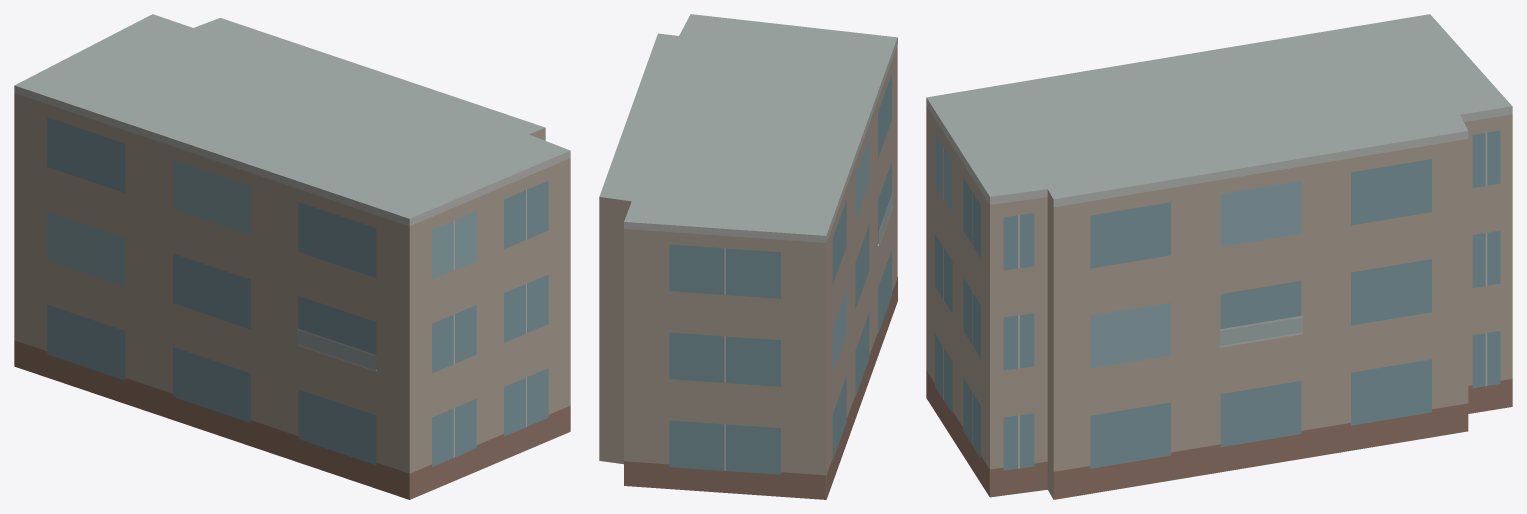
The model's file is survey-upis-32697260.glb.
The picture shows the model from 3 angles, left to right: view 1: azimuth 30°, elevation 25°; view 2: azimuth 150°, elevation 25°; view 3: azimuth 270°, elevation 25°; orthographic projection. The views are drawn at different scales.
Parts seen in each view (by area): view 1: survey-upis-32697260.tmp; view 2: survey-upis-32697260.tmp; view 3: survey-upis-32697260.tmp.
Boxes of the visible parts, left/top/right/bottom form: survey-upis-32697260.tmp: left=14, top=14, right=570, bottom=499; survey-upis-32697260.tmp: left=599, top=14, right=897, bottom=499; survey-upis-32697260.tmp: left=926, top=14, right=1512, bottom=499.
Bounding box in the file's own units: 12.12 × 9.15 × 16.19.
